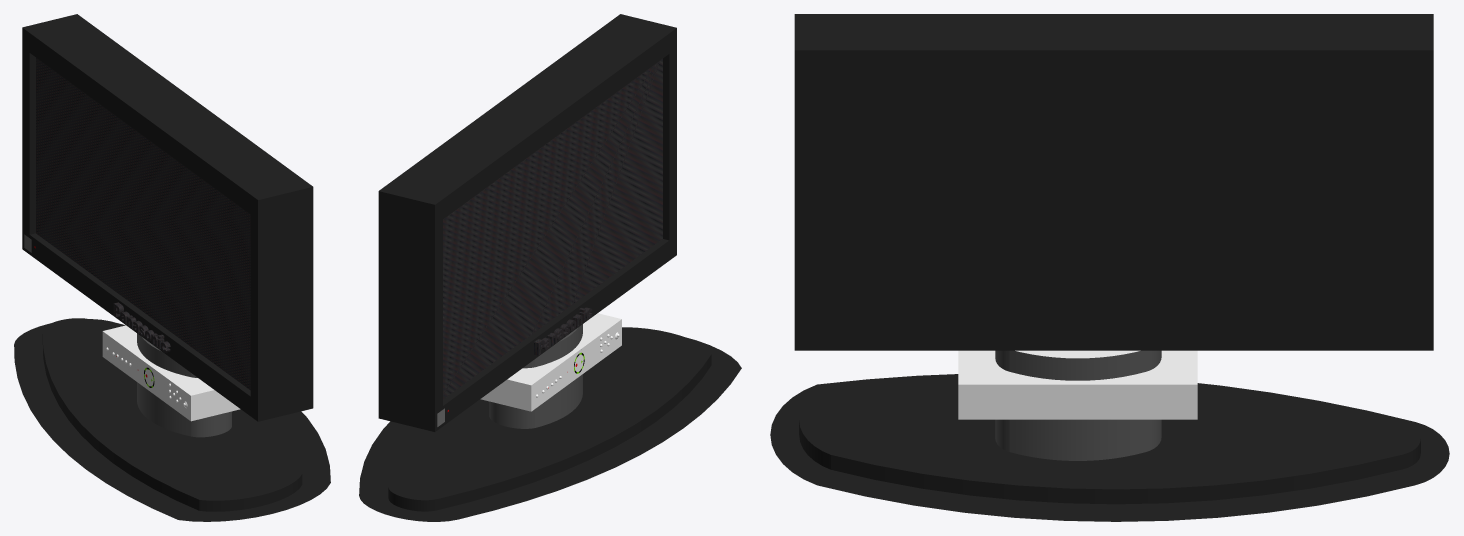
3 views of the same model, side by side, from view 1: azimuth 30°, elevation 25°; view 2: azimuth 150°, elevation 25°; view 3: azimuth 270°, elevation 25° (orthographic). The views are drawn at different scales.
Parts seen in each view (by area): view 1: mesh31-geometry-1, mesh31-geometry-10, mesh31-geometry-2, mesh31-geometry-0, mesh31-geometry-4; view 2: mesh31-geometry-1, mesh31-geometry-10, mesh31-geometry-2, mesh31-geometry-0, mesh31-geometry-4; view 3: mesh31-geometry-1, mesh31-geometry-0, mesh31-geometry-2.
Part boxes in pixels (bbox=[...]): mesh31-geometry-1: bbox=[14, 14, 330, 521]; mesh31-geometry-10: bbox=[36, 57, 250, 390]; mesh31-geometry-2: bbox=[137, 333, 231, 437]; mesh31-geometry-0: bbox=[27, 325, 240, 521]; mesh31-geometry-4: bbox=[102, 331, 190, 420]; mesh31-geometry-1: bbox=[359, 14, 741, 521]; mesh31-geometry-10: bbox=[443, 58, 662, 399]; mesh31-geometry-2: bbox=[489, 324, 582, 428]; mesh31-geometry-0: bbox=[371, 313, 713, 521]; mesh31-geometry-4: bbox=[531, 319, 621, 411]; mesh31-geometry-1: bbox=[770, 14, 1449, 521]; mesh31-geometry-0: bbox=[945, 350, 1432, 521]; mesh31-geometry-2: bbox=[995, 350, 1161, 460].
Size of the model in its own units: 0.3945 by 0.516 by 0.7603.
